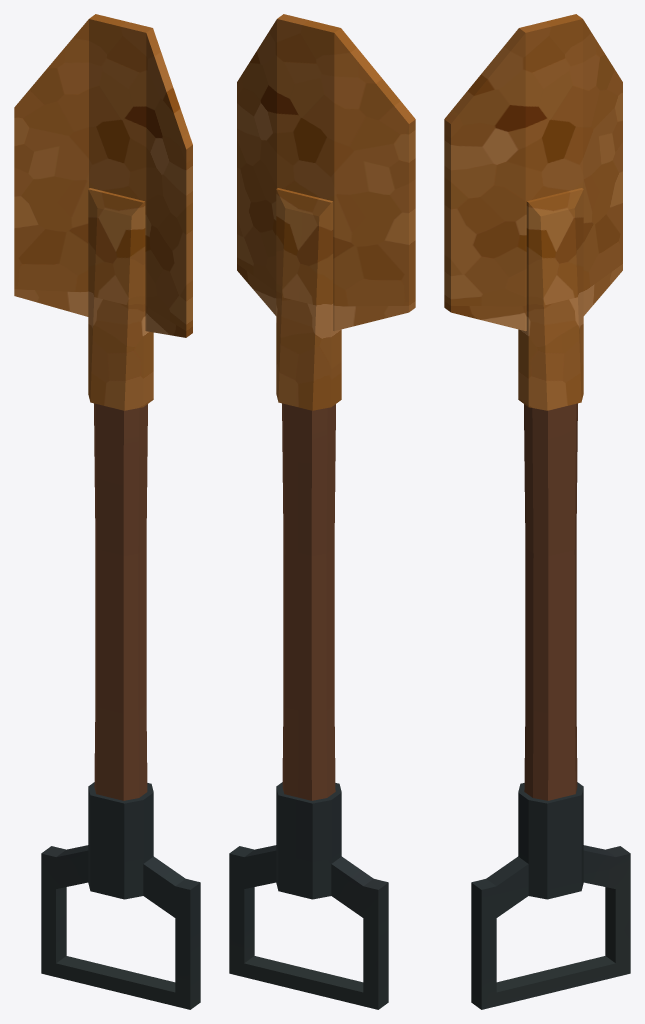
Rendered from shovel_rusty.glb.
The picture shows the model from 3 angles, left to right: view 1: azimuth 30°, elevation 25°; view 2: azimuth 210°, elevation 25°; view 3: azimuth 270°, elevation 25°; orthographic projection.
Visible parts, largest first — view 1: SpadeV12; view 2: SpadeV12; view 3: SpadeV12.
Part boxes in pixels (box(x1,y1,x2,y2)): SpadeV12: box(14, 14, 200, 1009); SpadeV12: box(229, 14, 415, 1009); SpadeV12: box(444, 14, 630, 1009).
Bounding box in the file's own units: 0.1385 × 1.07 × 0.1878.
2 materials, 2 textured.
